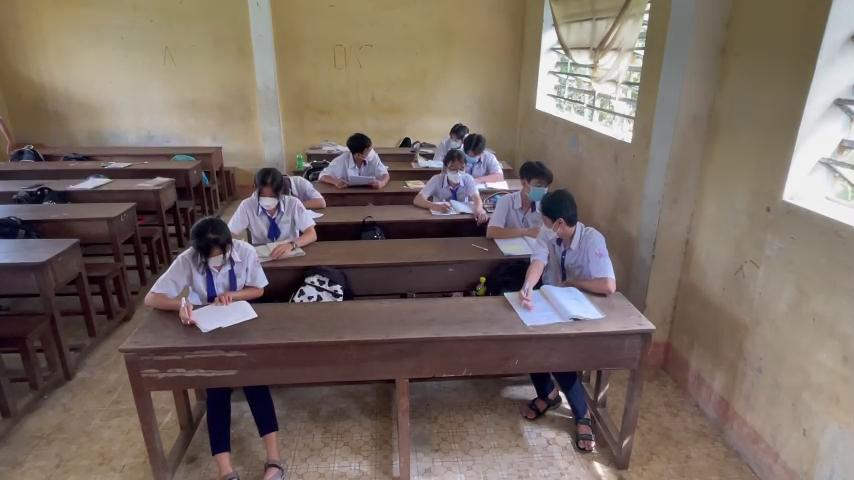Look Around: (534, 183, 582, 244), (341, 129, 379, 172)
Wave: (462, 173, 489, 228)
